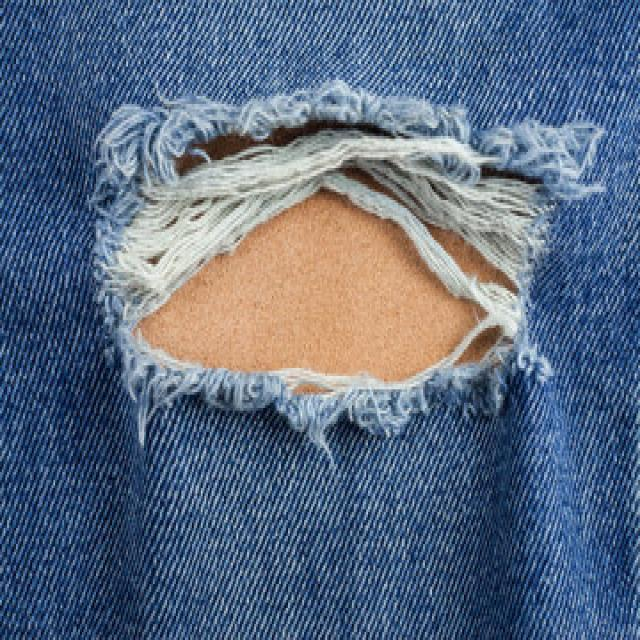Hole: (93, 82, 604, 452)
